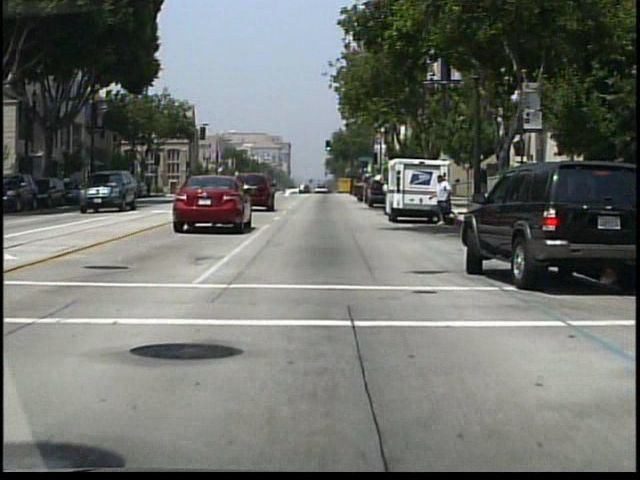person: (427, 171, 454, 227), (353, 174, 370, 206)
